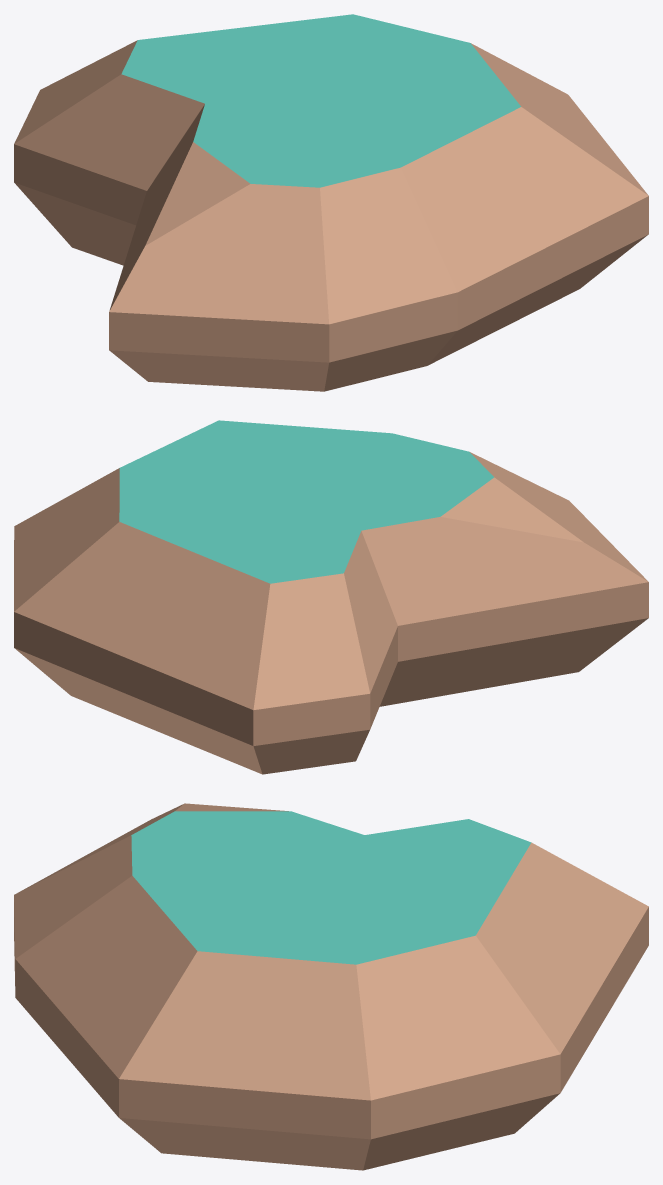
File: rock_largeC.glb
The picture shows the model from 3 angles, top to bottom: view 1: azimuth 30°, elevation 25°; view 2: azimuth 150°, elevation 25°; view 3: azimuth 270°, elevation 25°; orthographic projection. The views are drawn at different scales.
Parts seen in each view (by area): view 1: rock_largeC; view 2: rock_largeC; view 3: rock_largeC.
Part boxes in pixels (left/top/right/bottom): rock_largeC: left=14, top=14, right=648, bottom=391; rock_largeC: left=14, top=420, right=648, bottom=774; rock_largeC: left=14, top=803, right=648, bottom=1170.
Size of the model in its own units: 1.06 by 0.3211 by 1.02.
